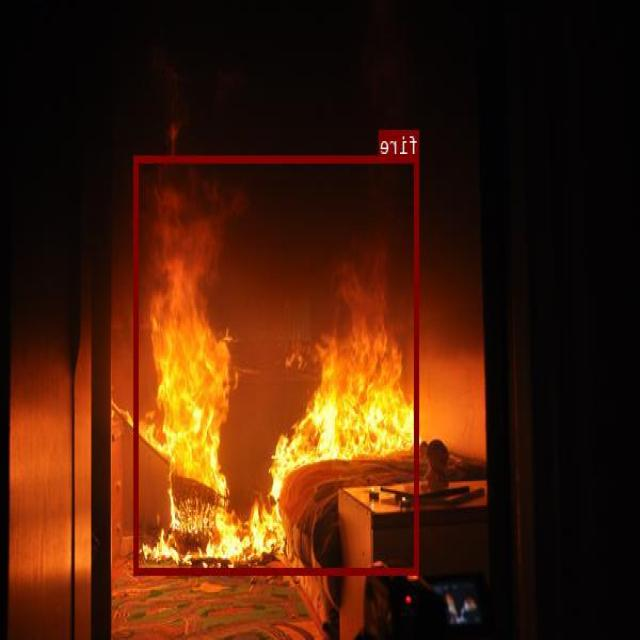fire: (135, 155, 420, 573)
